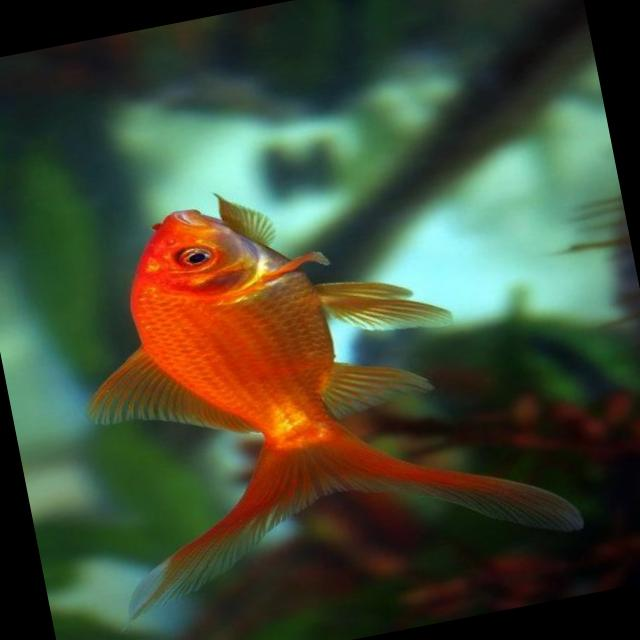GoldFish: (45, 134, 595, 625)
